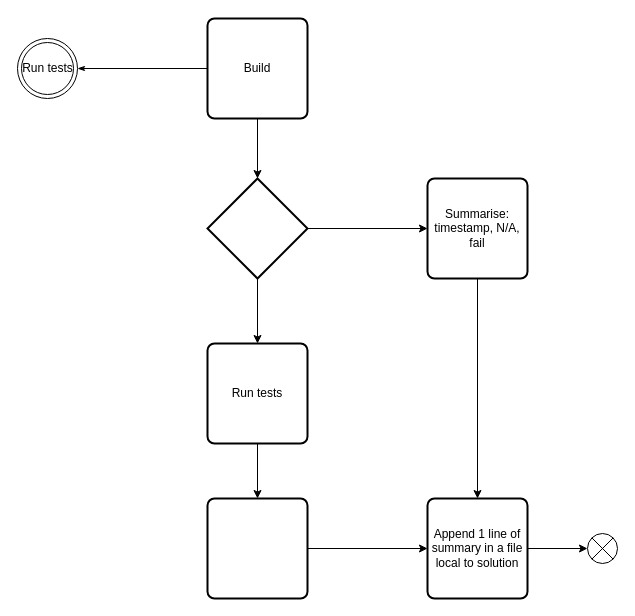
This 635x616 diagram has some shape labels left out. The box of each missing label's shape, as (x1, y1, x2, y2) in pixels:
Succeeded?: (206, 177, 308, 279)
Summarise: timestamp, cov, pass/fail: (206, 497, 308, 599)
